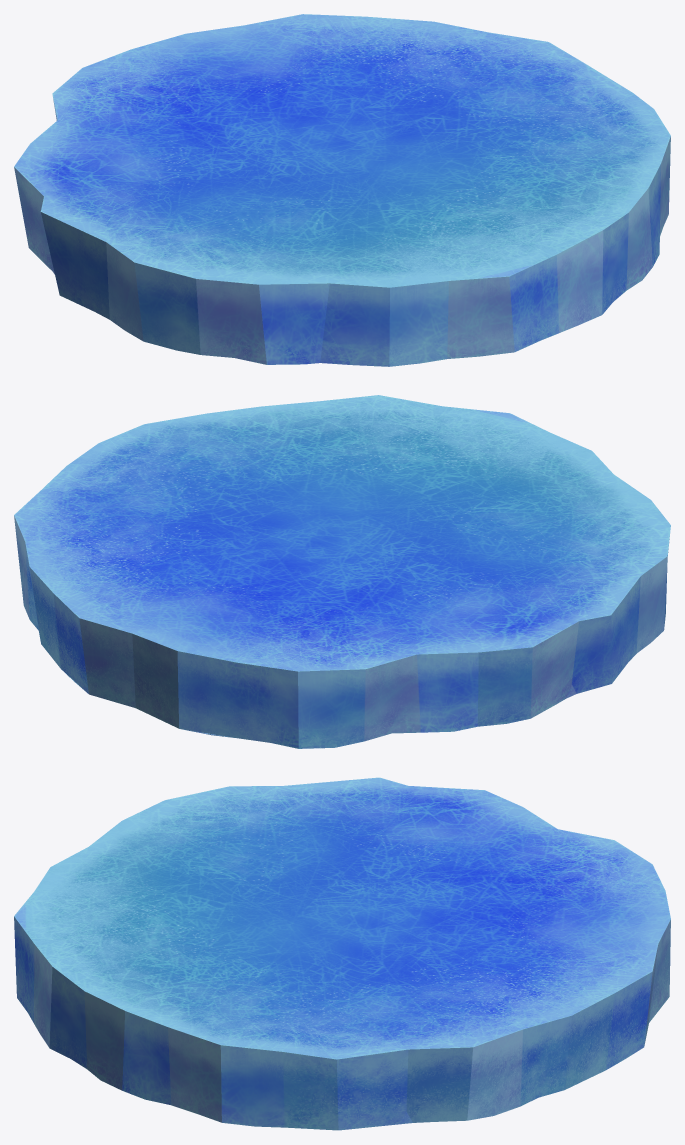
The model's file is IcePlatform_Version2_Circle.fbx.
3 views of the same model, one above another, from view 1: azimuth 30°, elevation 25°; view 2: azimuth 150°, elevation 25°; view 3: azimuth 270°, elevation 25° (orthographic).
Visible parts, largest first — view 1: Circle Platform - environment; view 2: Circle Platform - environment; view 3: Circle Platform - environment.
Boxes of the visible parts, x1,y1,x2,y2 form: Circle Platform - environment: (14,14,670,366); Circle Platform - environment: (14,395,670,748); Circle Platform - environment: (14,777,670,1130).
Size of the model in its own units: 93.51 by 13.05 by 93.55.
